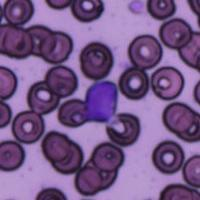L: (84, 78, 118, 124)
